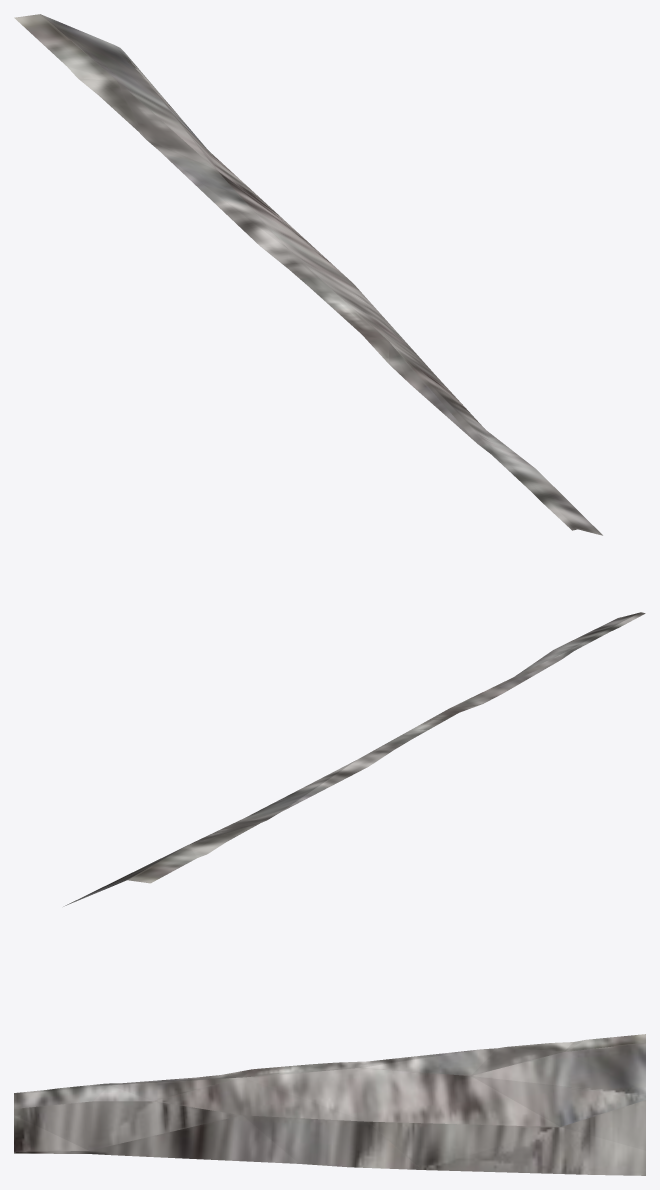
The picture shows the model from 3 angles, top to bottom: view 1: azimuth 30°, elevation 25°; view 2: azimuth 150°, elevation 25°; view 3: azimuth 270°, elevation 25°; orthographic projection. The views are drawn at different scales.
Bounding box in the file's own units: 0.2668 × 0.2903 × 1.67.
Materials: 1 (1 with a texture image).
